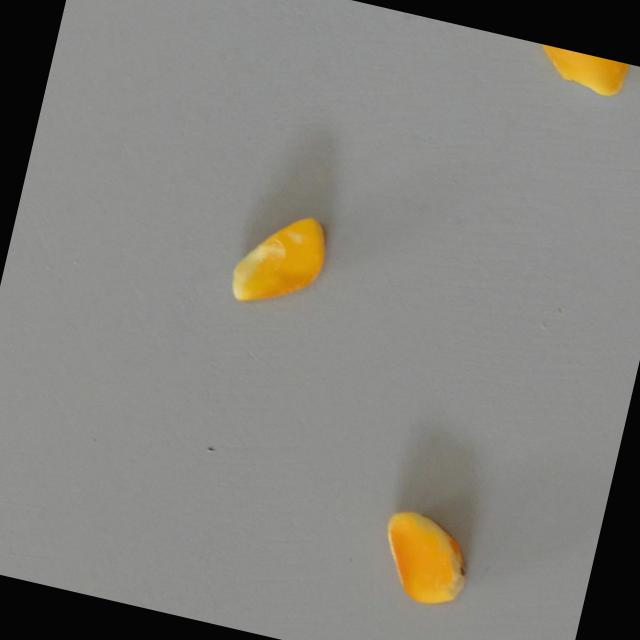estandar: (225, 198, 335, 316), (525, 41, 628, 99)
pelicula: (371, 506, 477, 610)
